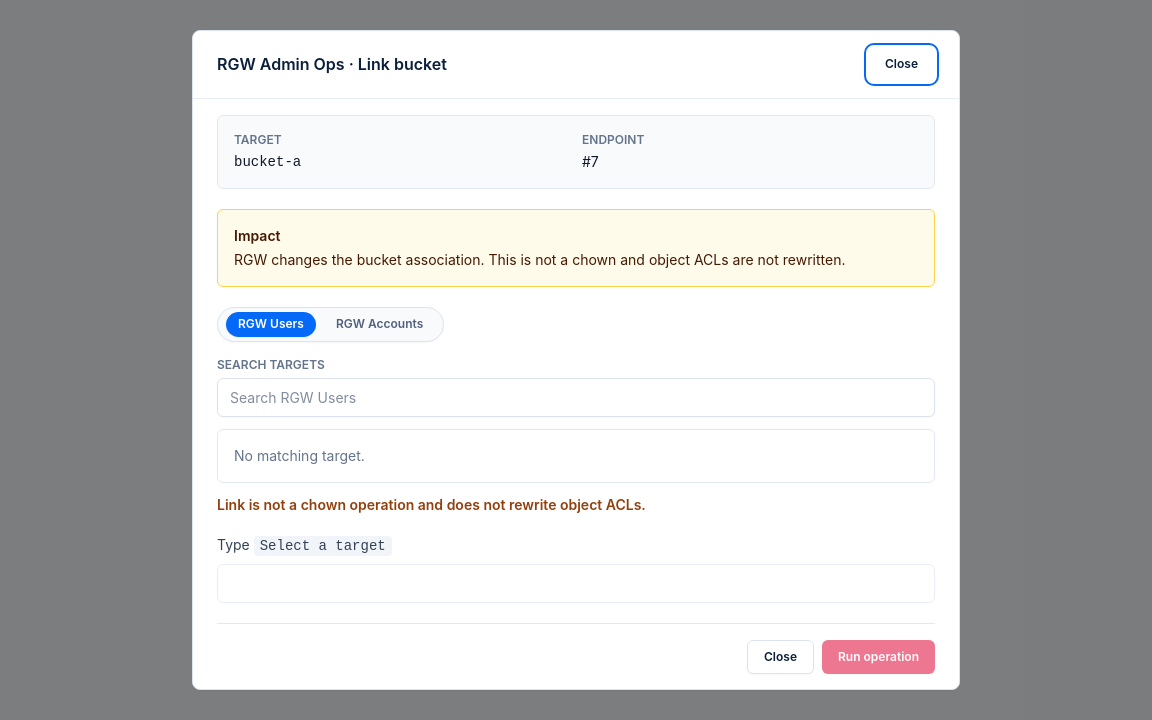
CephAdminAdminOpsModal › searches and selects an existing RGW Account for link
Step 1. Click the button "RGW Accounts" → (380, 324), box [324,312,435,336]
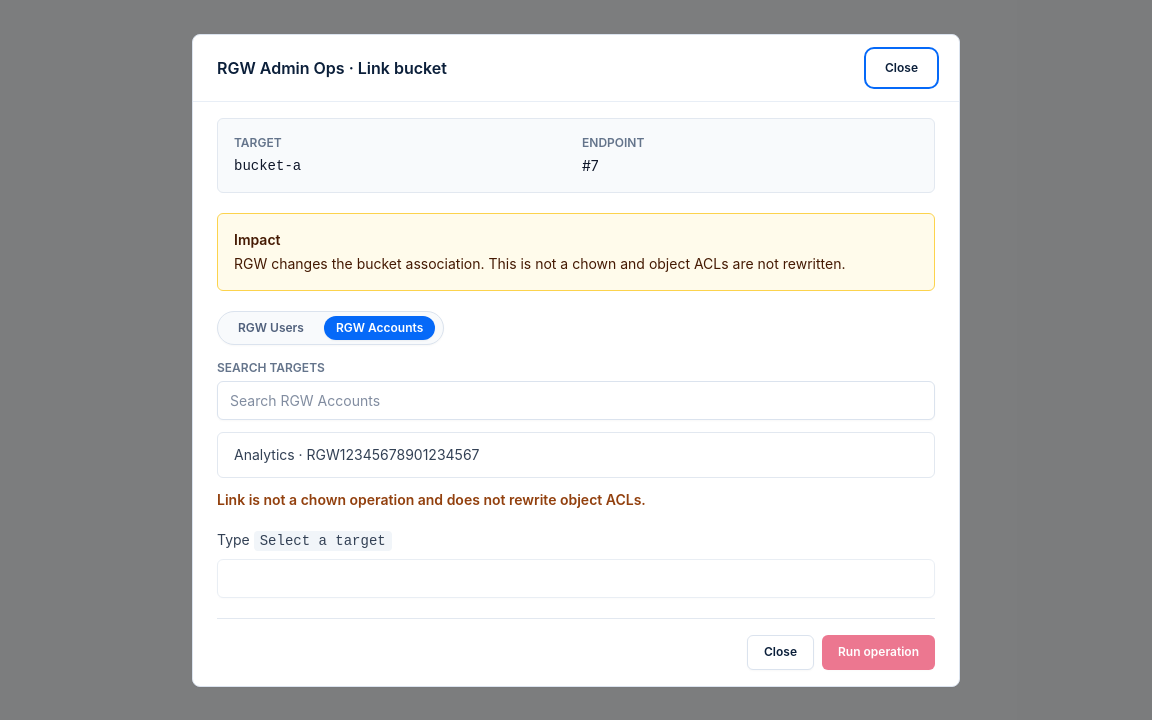
Now the button "Analytics · RGW12345678901234567" is shown
Step 2. Click the button "Analytics · RGW12345678901234567" → (357, 454), box [222,437,930,473]
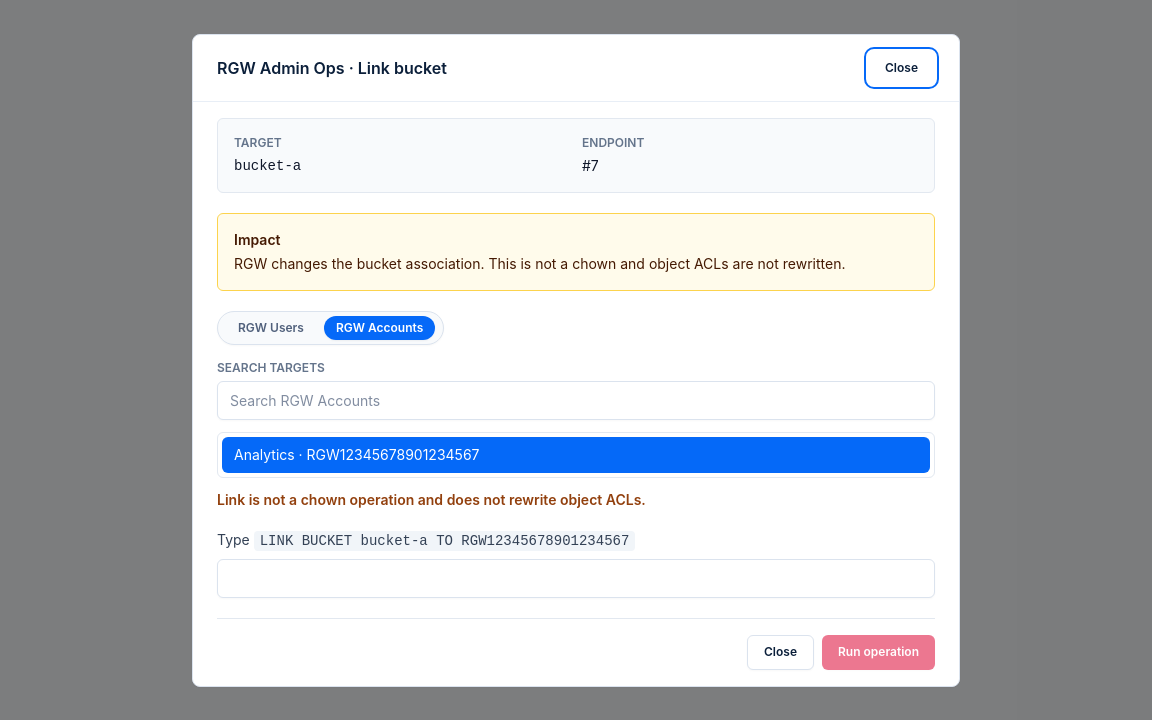
Now the text "LINK BUCKET bucket-a TO RGW12345678901234567" is shown, box [254,531,635,551]
